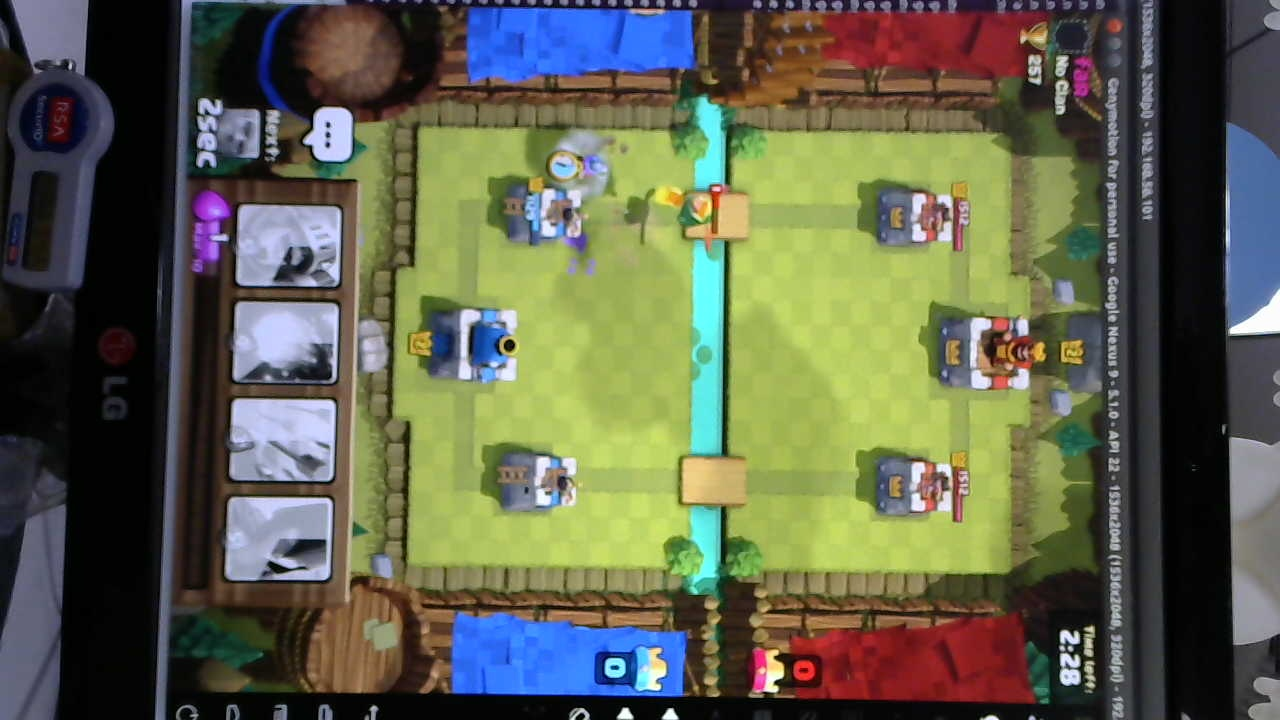arena: (505, 178, 588, 248), (498, 448, 583, 514)
dragon: (668, 182, 713, 242)
earena: (872, 454, 960, 519), (876, 186, 959, 250)
eking: (936, 309, 1044, 395)
king: (435, 302, 525, 387)
musketeer: (576, 146, 617, 187)
